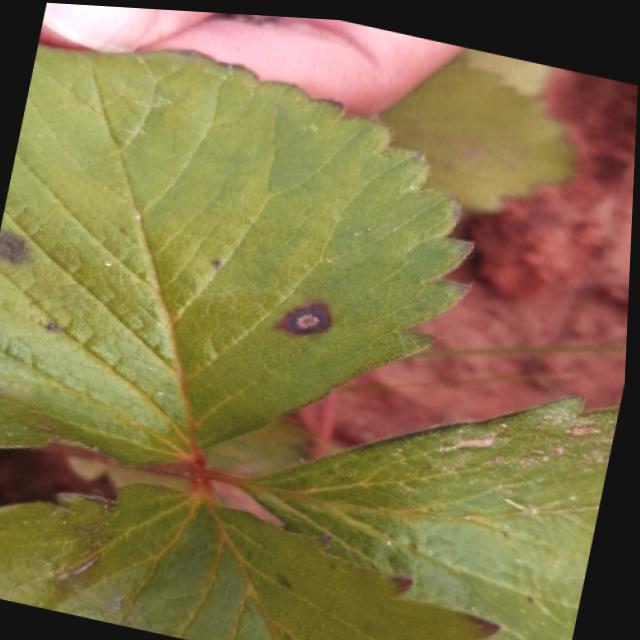Leaf Spot: (0, 40, 478, 464), (0, 477, 532, 640)
